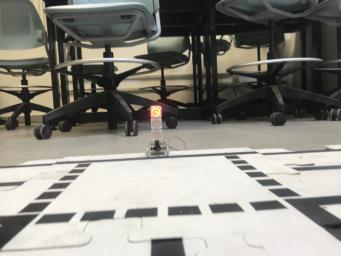street: (0, 151, 341, 255), (0, 151, 341, 255), (0, 151, 341, 255)
traffic_light: (146, 105, 169, 157), (146, 105, 169, 157), (146, 105, 169, 157)
